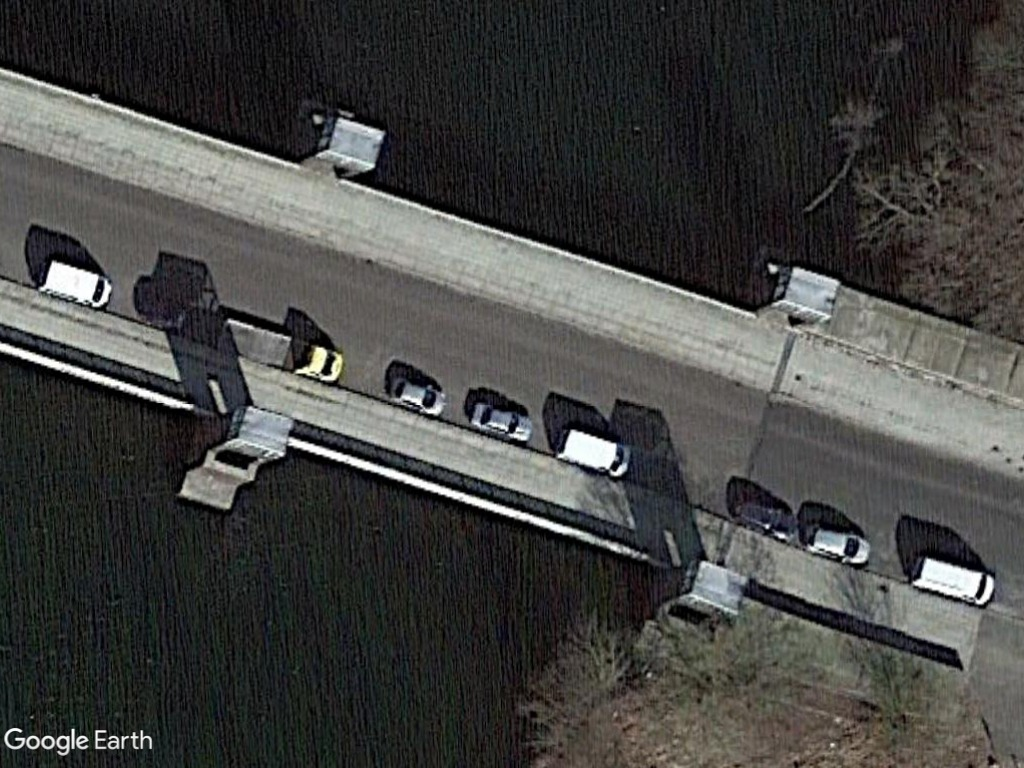car: (798, 518, 876, 571), (464, 396, 538, 445), (384, 368, 451, 422)
van: (904, 548, 1000, 610), (32, 254, 119, 315), (551, 424, 639, 483)
